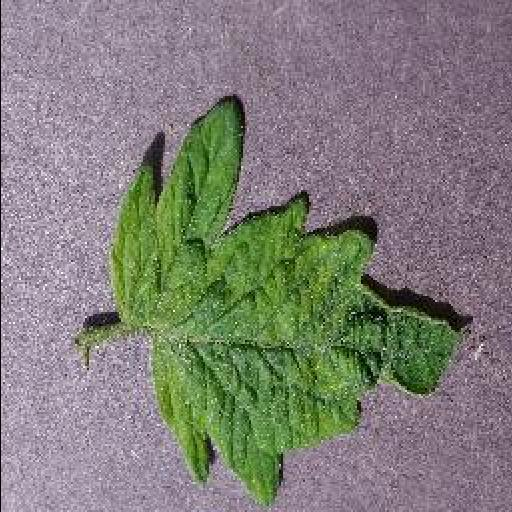disease_tomato: (108, 95, 468, 509)
